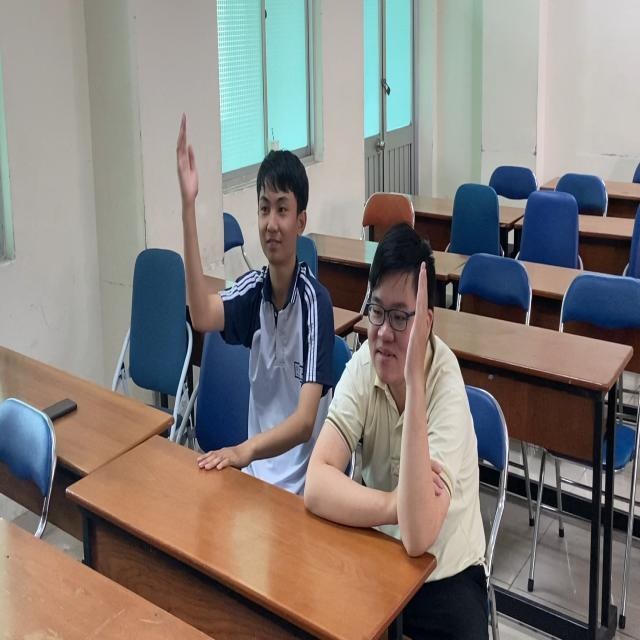raise_hand: (145, 67, 341, 562), (302, 210, 537, 561)
